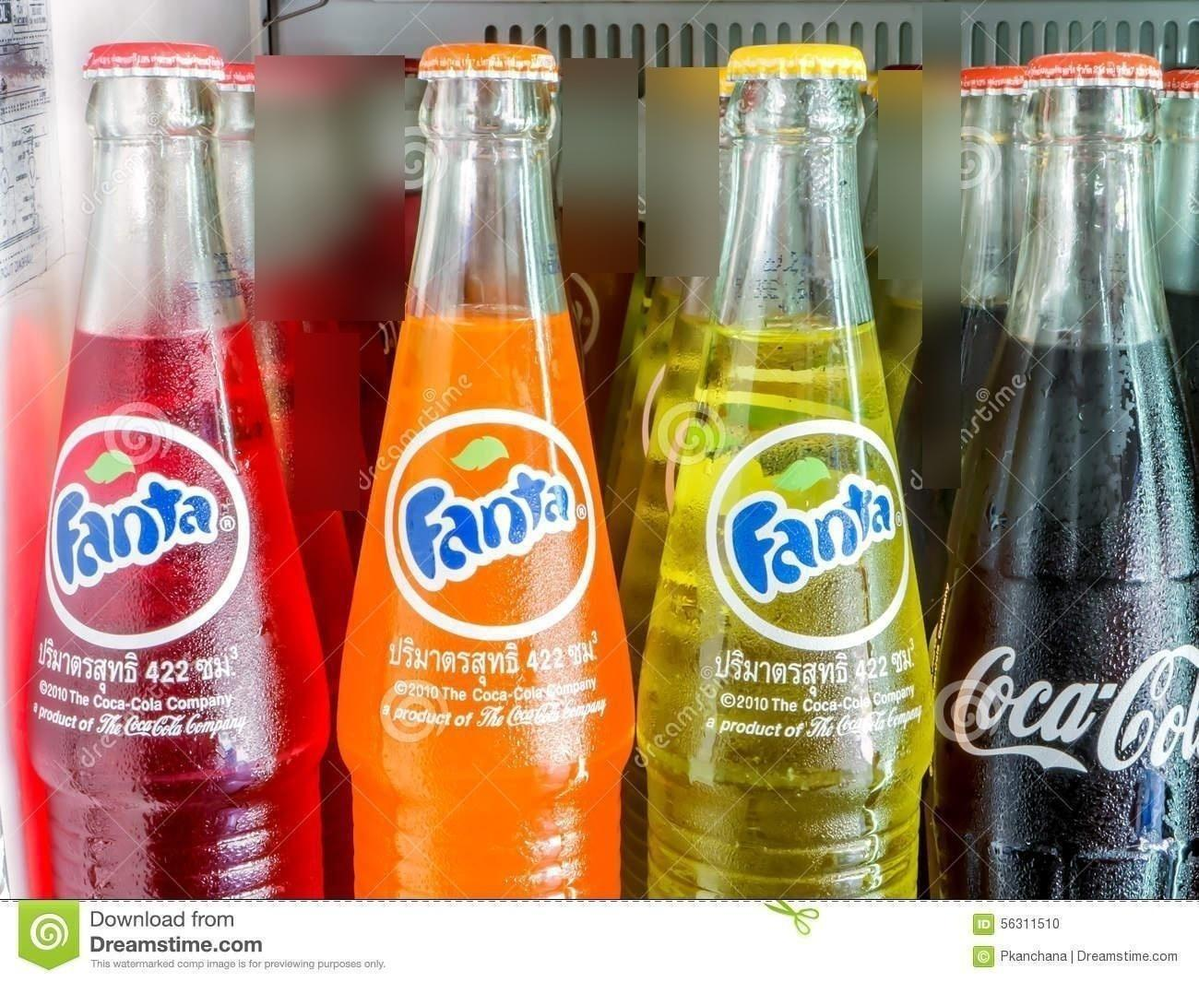bottle-glass: (625, 51, 941, 902), (9, 41, 320, 905), (333, 38, 636, 900), (925, 48, 1197, 901)
